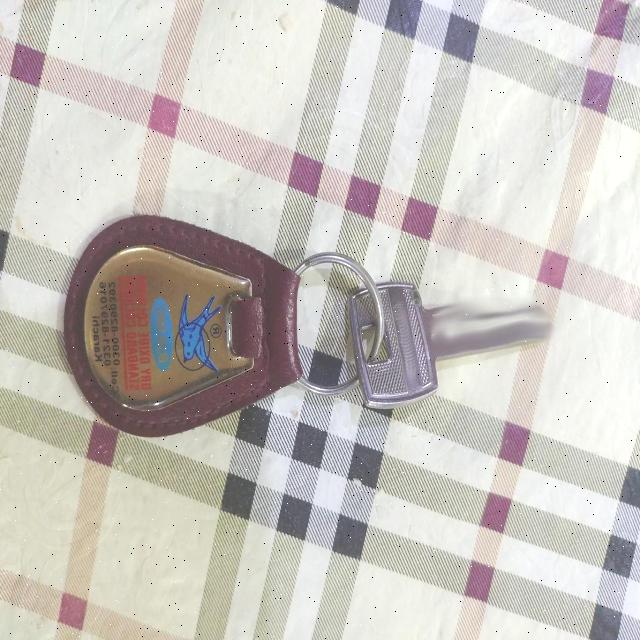Frontdoor keys: (342, 272, 558, 409)
